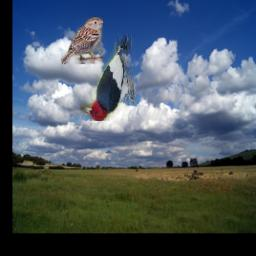Sparrow: (61, 17, 103, 64)
Woodpecker: (80, 34, 136, 122)
